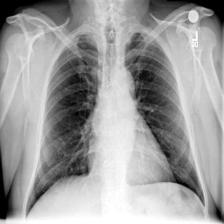normal: (23, 27, 210, 224)
